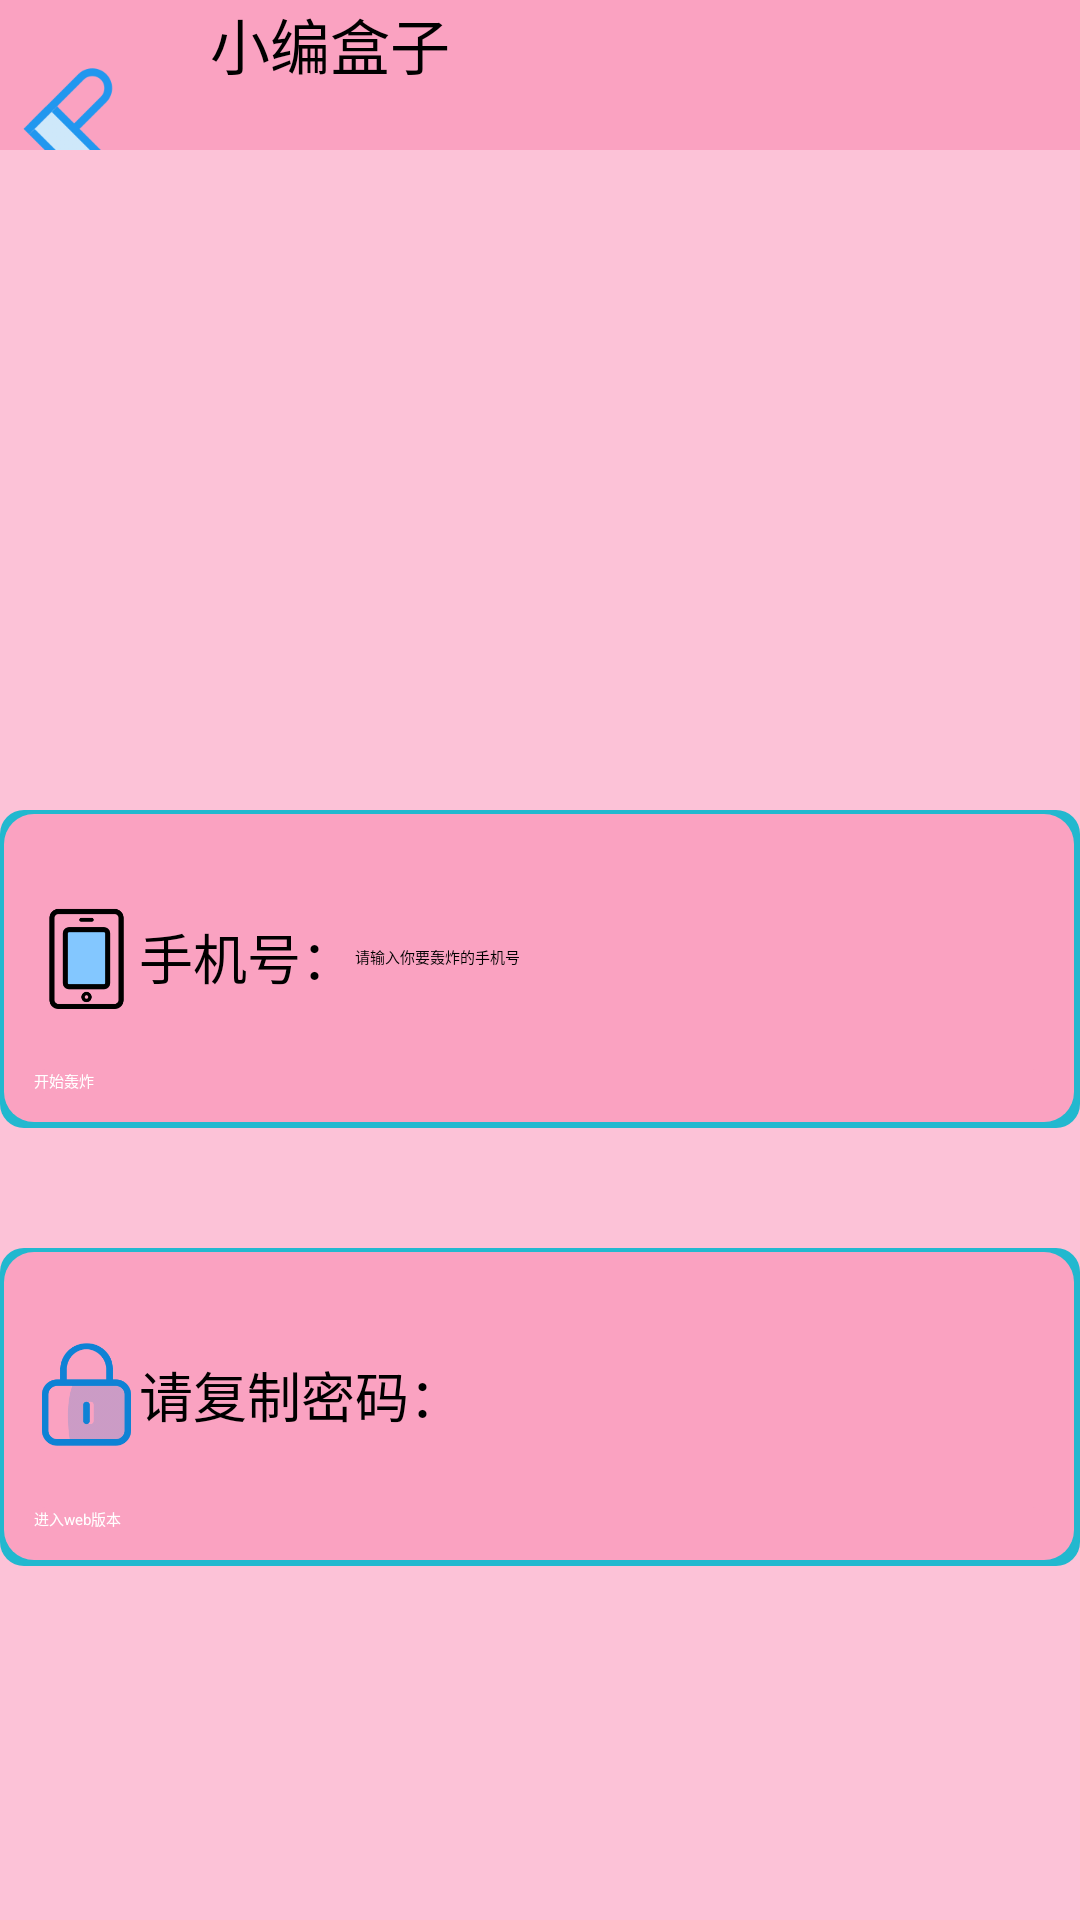

Icons on this 1080w x 1920h Android screen, each with its box as (x1, y1, x2, y2):
mima: (42, 1343, 131, 1446)
